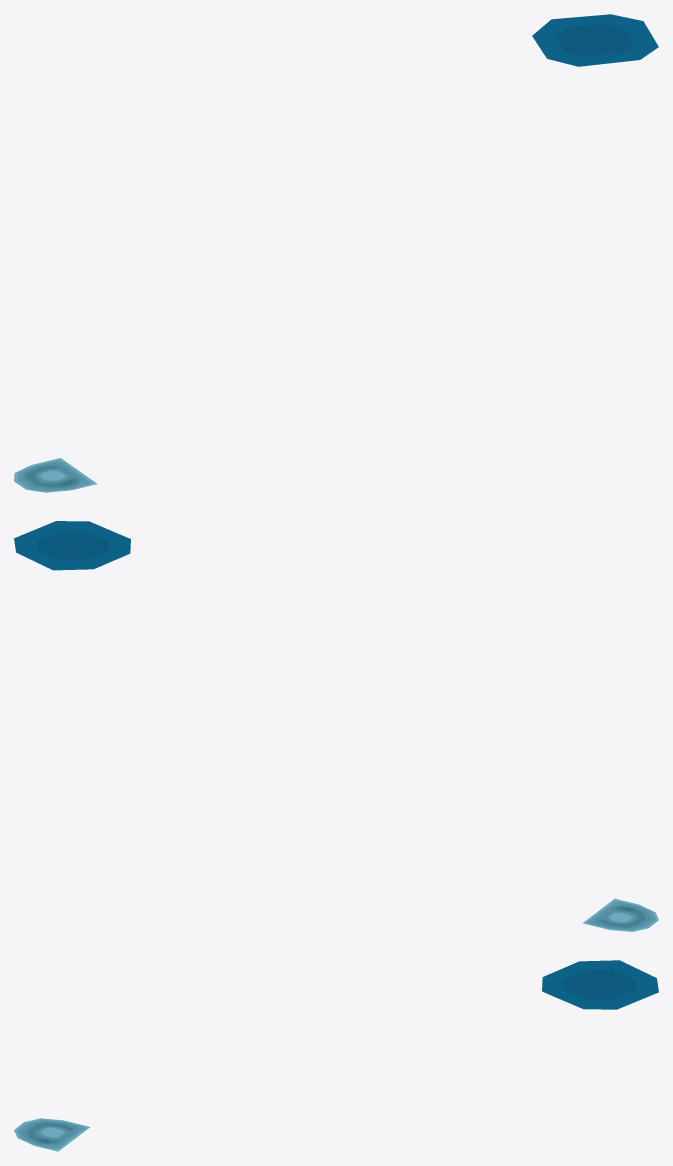
Rendered from kd_stage_1366d7_20_0.glb.
3 renders of one model, top to bottom at view 1: azimuth 30°, elevation 25°; view 2: azimuth 150°, elevation 25°; view 3: azimuth 330°, elevation 25°, orthographic. The views are drawn at different scales.
Visible parts, largest first — view 1: kd_stage_1366d7_20_0; view 2: kd_stage_1366d7_20_0; view 3: kd_stage_1366d7_20_0.
Boxes of the visible parts, box(x1,y1,x2,y2) form: kd_stage_1366d7_20_0: box(14, 14, 658, 492); kd_stage_1366d7_20_0: box(14, 521, 658, 931); kd_stage_1366d7_20_0: box(14, 960, 658, 1151).
Size of the model in its own units: 377 by 153 by 75.28.
1 material, 1 textured.
